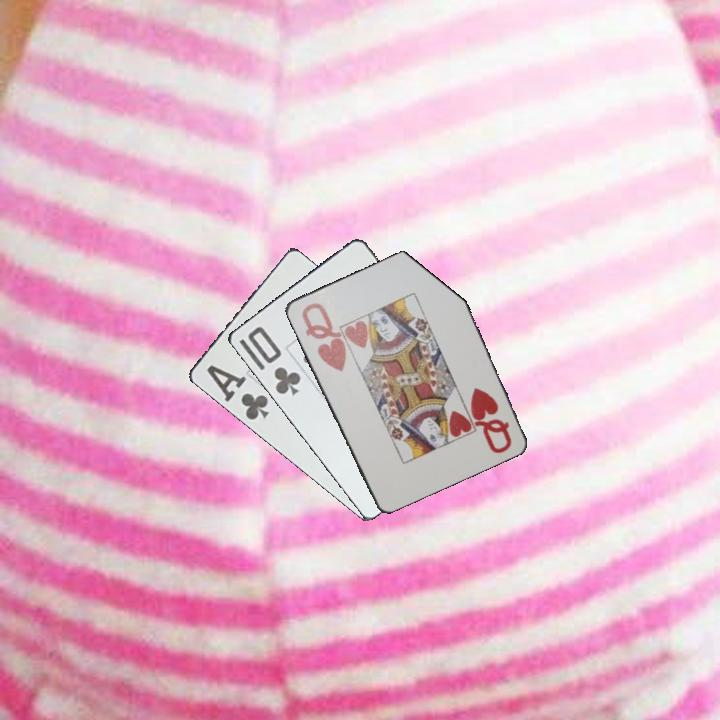Ac: (202, 361, 272, 425)
Qh: (298, 299, 350, 375), (466, 384, 514, 456)
Tc: (244, 323, 305, 399)
